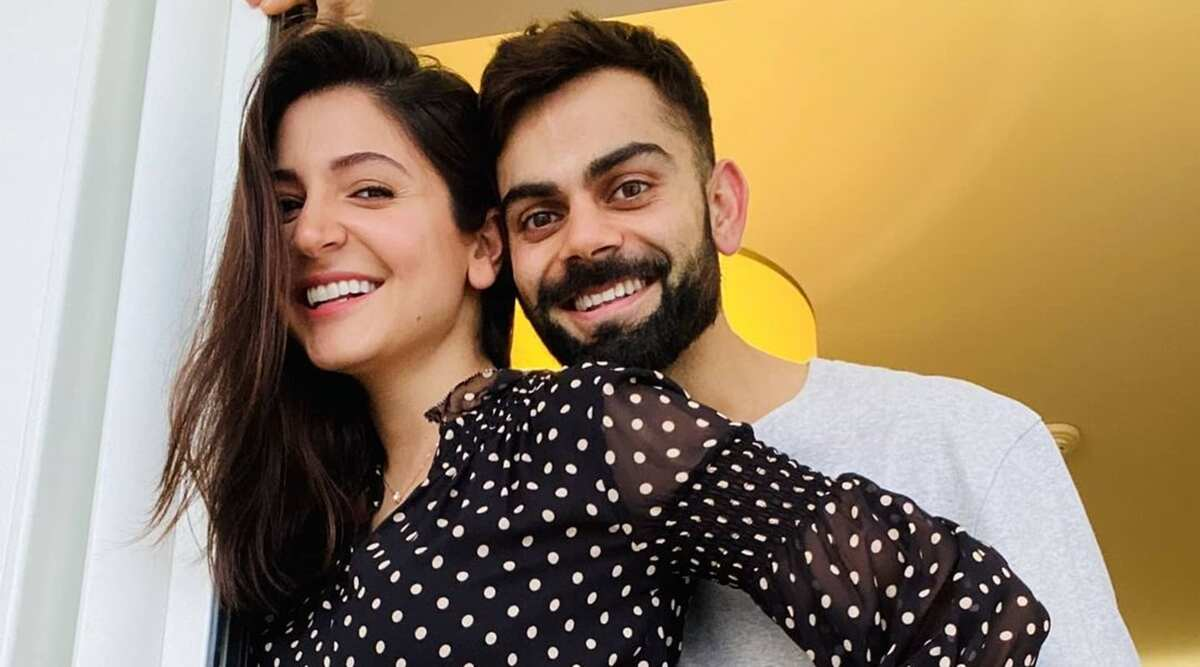NoMask: (504, 132, 693, 359), (269, 144, 430, 369)
